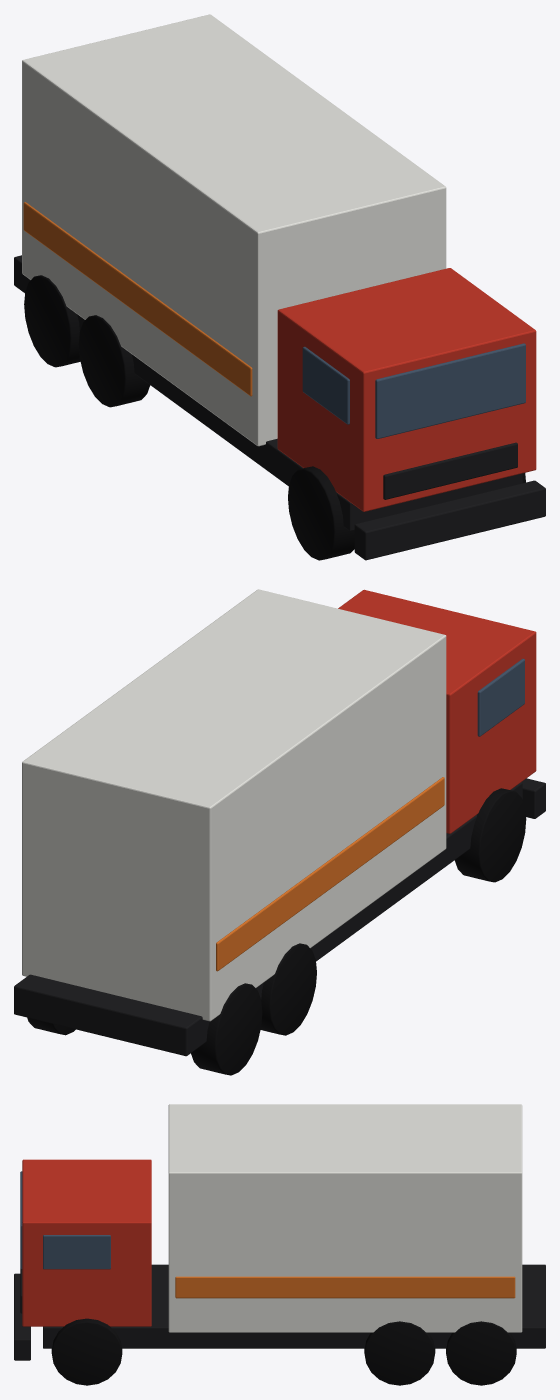
The model's file is lkw.glb.
The picture shows the model from 3 angles, top to bottom: view 1: azimuth 30°, elevation 25°; view 2: azimuth 150°, elevation 25°; view 3: azimuth 270°, elevation 25°; orthographic projection. The views are drawn at different scales.
Visible parts, largest first — view 1: lkw; view 2: lkw; view 3: lkw.
Part boxes in pixels (left/top/right/bottom): lkw: left=14, top=14, right=545, bottom=560; lkw: left=14, top=589, right=545, bottom=1075; lkw: left=14, top=1104, right=545, bottom=1385.
Size of the model in its own units: 2.47 by 3.45 by 7.83.
